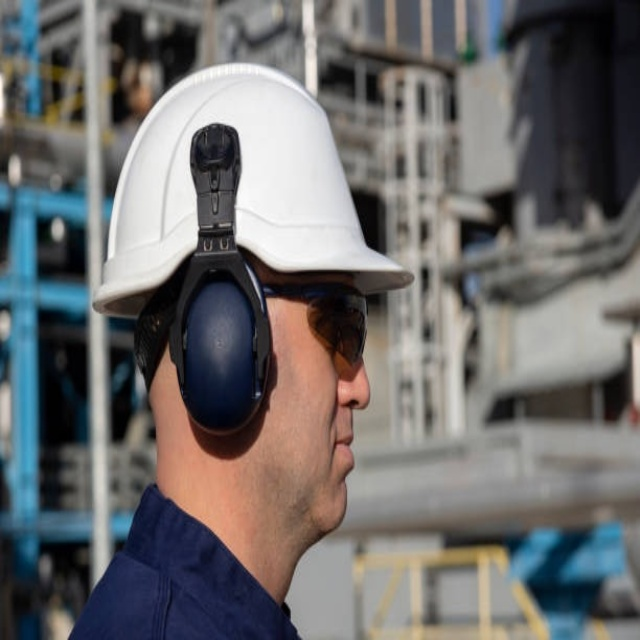Gafas: (259, 282, 370, 371)
Sin_mascara: (306, 411, 361, 518)
